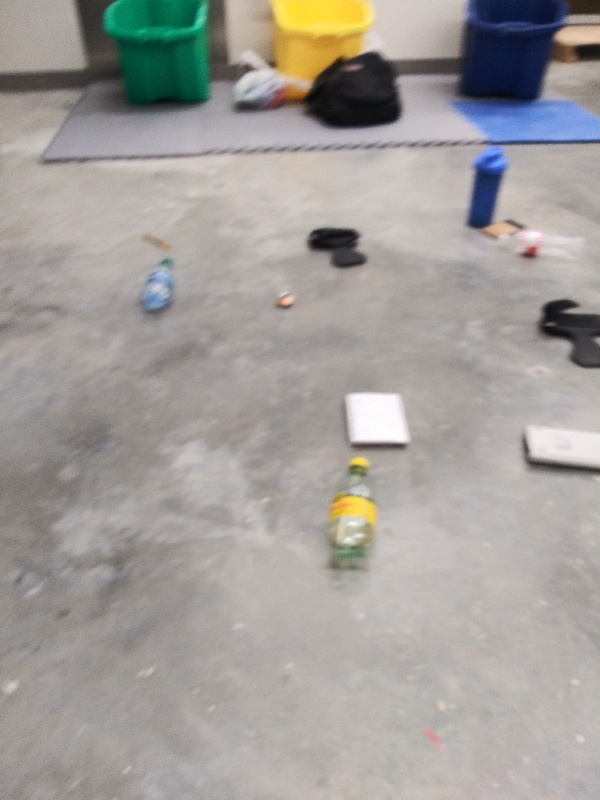bottle: (321, 451, 378, 573), (492, 228, 591, 266), (139, 254, 184, 320)
